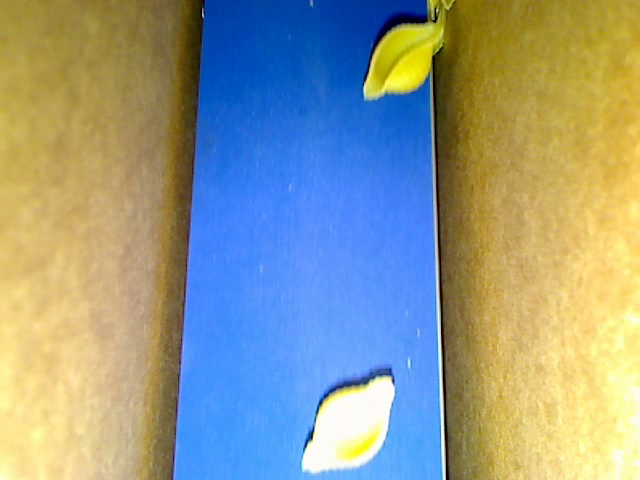penne: (430, 1, 449, 55), (439, 1, 453, 14)
shell: (300, 371, 400, 478), (362, 22, 442, 98)
